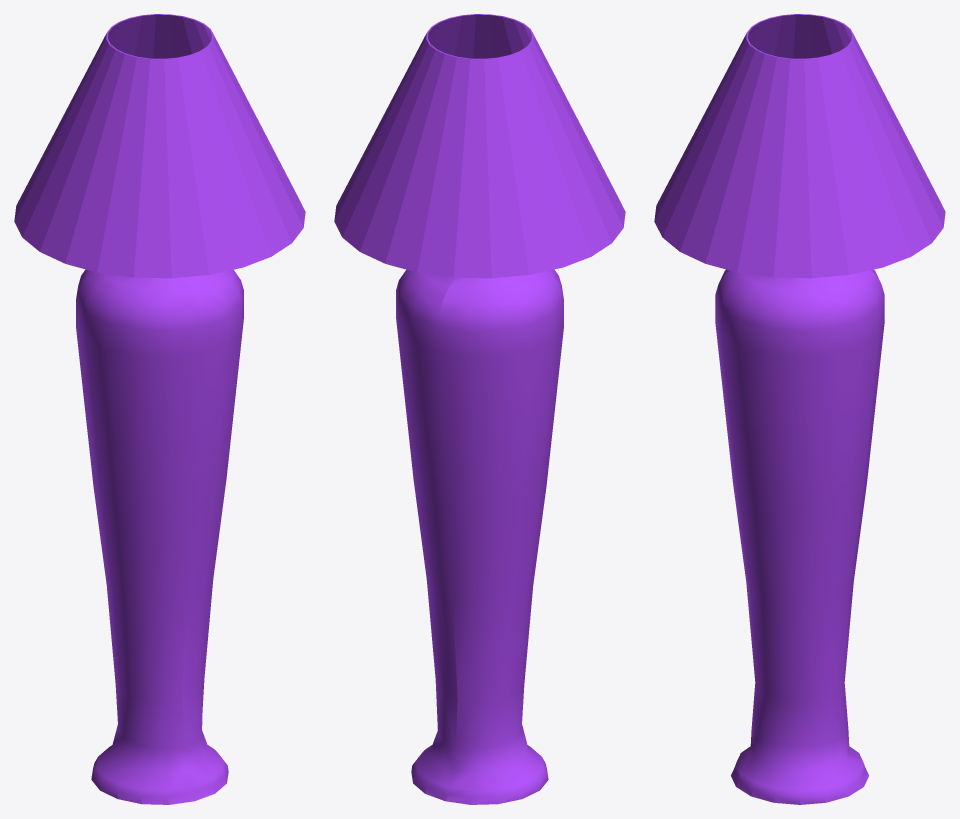
The model's file is lamp.obj.
3 views of the same model, side by side, from view 1: azimuth 30°, elevation 25°; view 2: azimuth 150°, elevation 25°; view 3: azimuth 270°, elevation 25° (orthographic).
Parts seen in each view (by area): view 1: LAMP; view 2: LAMP; view 3: LAMP.
Boxes of the visible parts, bbox=[...] form: LAMP: bbox=[14, 14, 305, 804]; LAMP: bbox=[334, 14, 625, 804]; LAMP: bbox=[654, 14, 945, 804].
Bounding box in the file's own units: 91.72 × 257 × 91.72.
